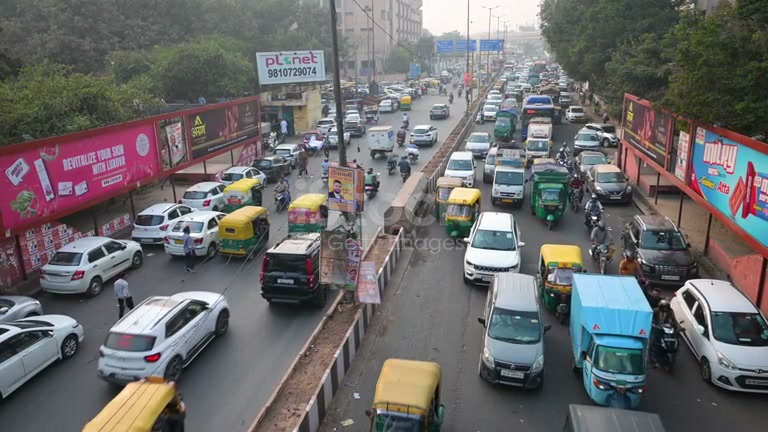bus: (529, 160, 570, 222), (520, 95, 555, 140), (525, 117, 553, 155), (522, 95, 554, 123), (492, 109, 517, 139), (527, 117, 553, 141)
car: (97, 289, 231, 387), (668, 278, 768, 393), (476, 271, 548, 392), (0, 313, 85, 403), (38, 235, 145, 296), (621, 213, 698, 290), (462, 210, 525, 286), (538, 243, 585, 313), (215, 204, 270, 259), (130, 201, 196, 244), (161, 212, 221, 258), (584, 165, 633, 205), (490, 161, 528, 208), (181, 181, 227, 210), (443, 151, 478, 187), (218, 164, 266, 189), (0, 294, 42, 322), (252, 154, 292, 182), (466, 132, 494, 158), (410, 124, 438, 147), (298, 131, 326, 154), (429, 103, 450, 120), (565, 106, 587, 122)
motorcycle: (273, 176, 291, 213)
pedestrian: (113, 275, 134, 320)
truck: (568, 272, 655, 407), (668, 278, 768, 393), (366, 358, 446, 432), (81, 377, 186, 432), (258, 231, 331, 306), (537, 243, 586, 311)
